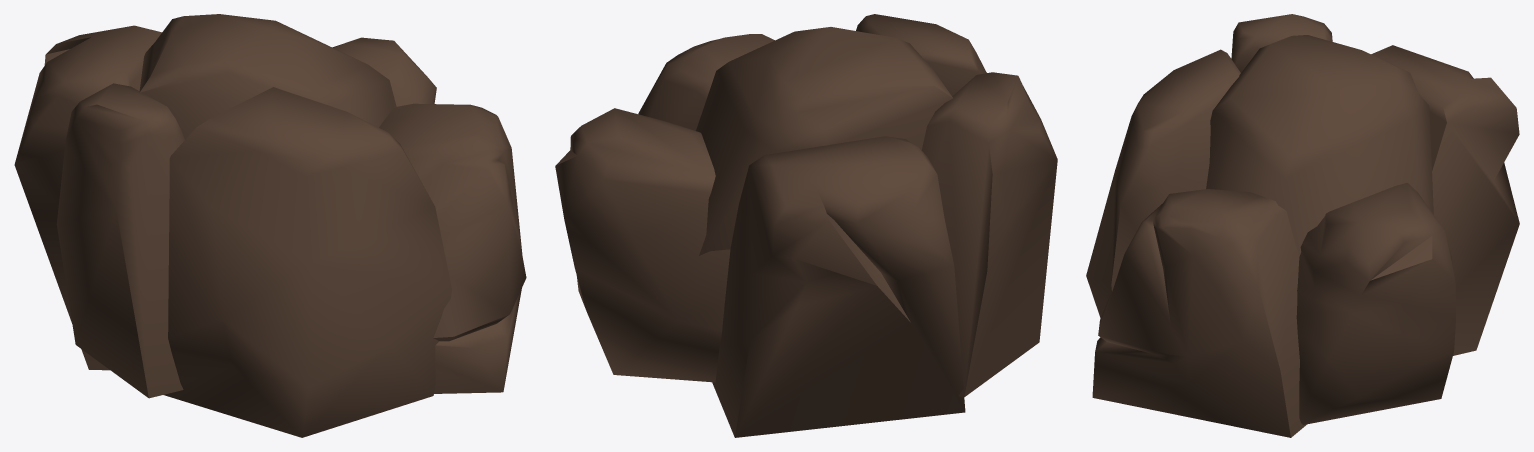
Rendered from Rock_12.fbx.
The picture shows the model from 3 angles, left to right: view 1: azimuth 30°, elevation 25°; view 2: azimuth 150°, elevation 25°; view 3: azimuth 270°, elevation 25°; orthographic projection. The views are drawn at different scales.
Parts seen in each view (by area): view 1: PP_Rock_Pile_Forest_Moss_10.001; view 2: PP_Rock_Pile_Forest_Moss_10.001; view 3: PP_Rock_Pile_Forest_Moss_10.001.
Boxes of the visible parts, x1=… form: PP_Rock_Pile_Forest_Moss_10.001: x1=14, y1=14, x2=526, y2=437; PP_Rock_Pile_Forest_Moss_10.001: x1=555, y1=14, x2=1057, y2=437; PP_Rock_Pile_Forest_Moss_10.001: x1=1086, y1=14, x2=1519, y2=437.
Bounding box in the file's own units: 5.06 × 5.2 × 3.89.
